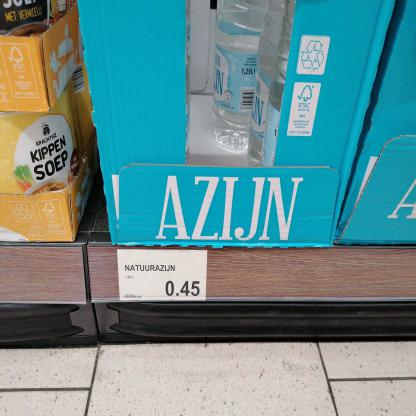prtg: (118, 251, 208, 303)
